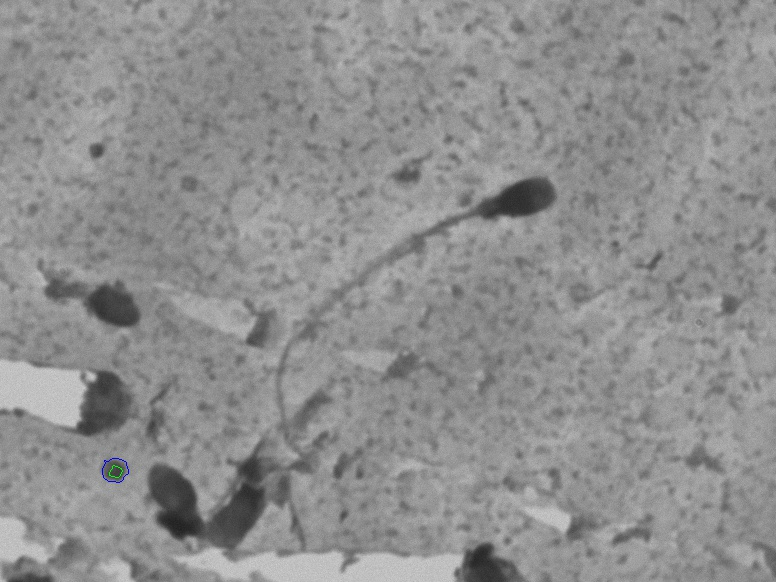Abnormal: (234, 135, 586, 489)
